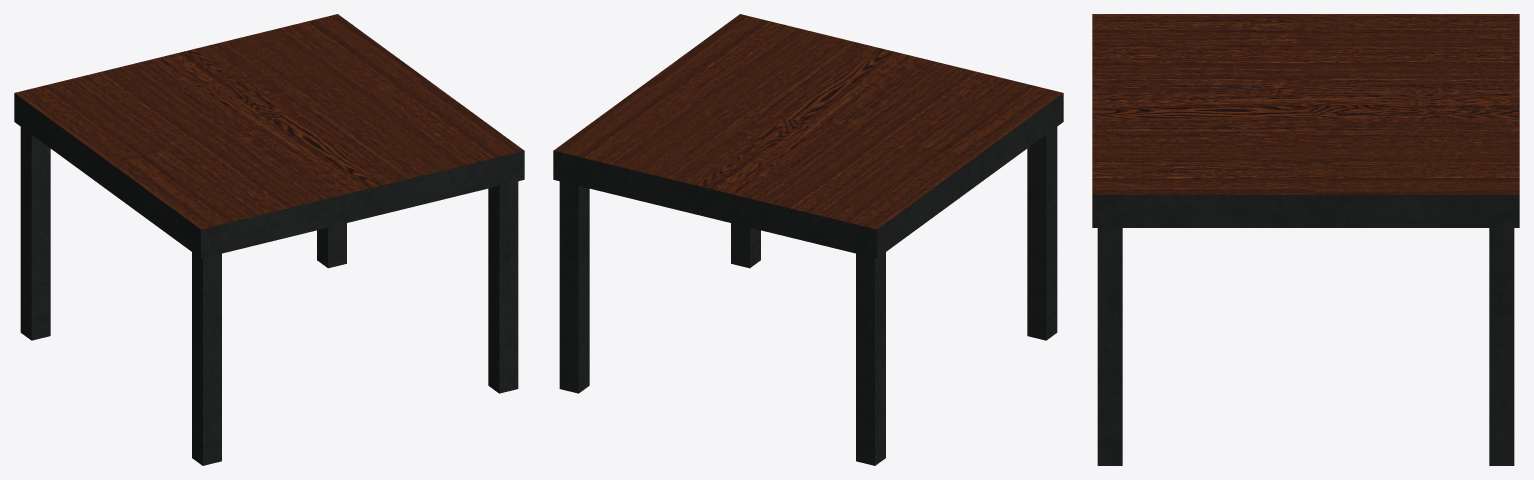
File: Mesa2.fbx
The picture shows the model from 3 angles, left to right: view 1: azimuth 30°, elevation 25°; view 2: azimuth 150°, elevation 25°; view 3: azimuth 270°, elevation 25°; orthographic projection. The views are drawn at different scales.
Visible parts, largest first — view 1: Mesa2; view 2: Mesa2; view 3: Mesa2.
Boxes of the visible parts, x1,y1,x2,y2 form: Mesa2: (14,14,524,465); Mesa2: (553,14,1063,465); Mesa2: (1092,14,1519,465).
Bounding box in the file's own units: 120 × 84.77 × 120.
